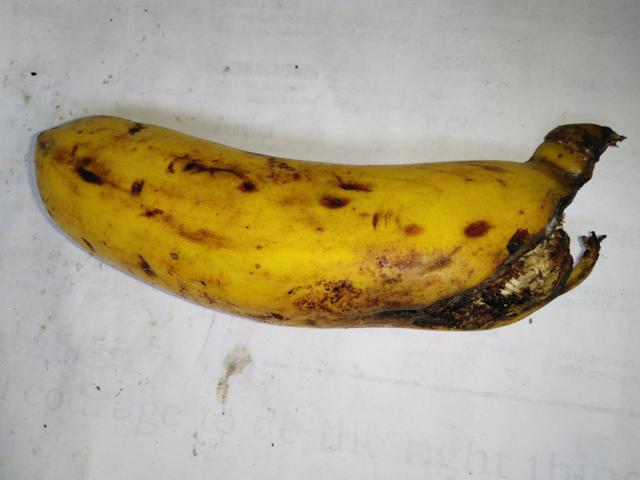ripe: (23, 100, 421, 344)
rotten: (384, 133, 601, 352)
